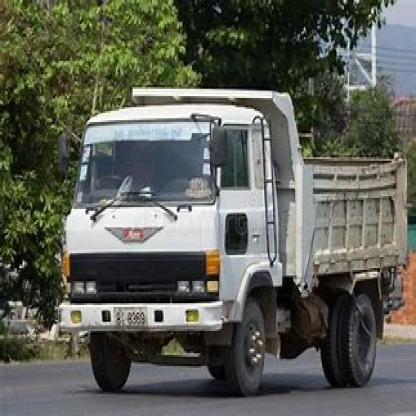dump_truck: (67, 78, 408, 388)
